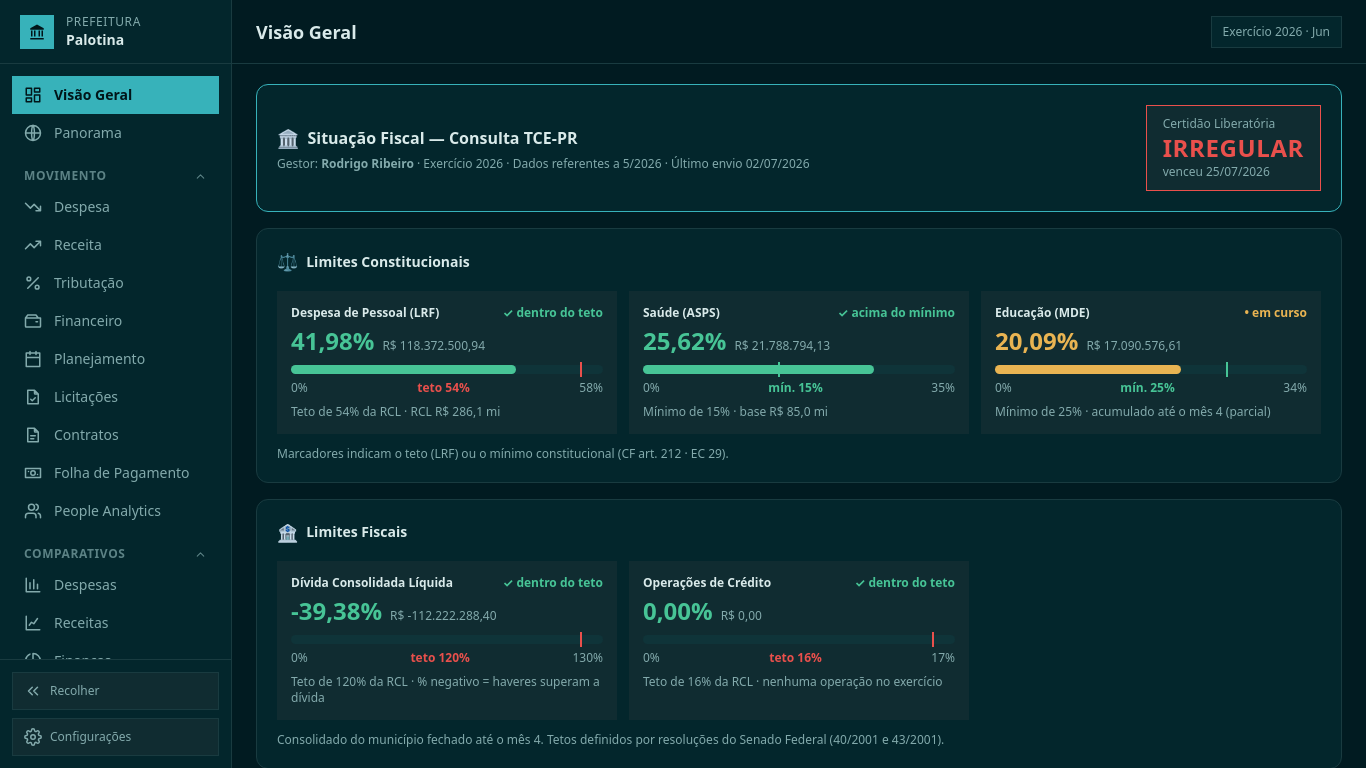
it: menu Configurações › abre com as seções Display, Aparência, Módulos e Extras
Click the button "Configurações" at coordinates (116, 737), box [12, 718, 219, 756]
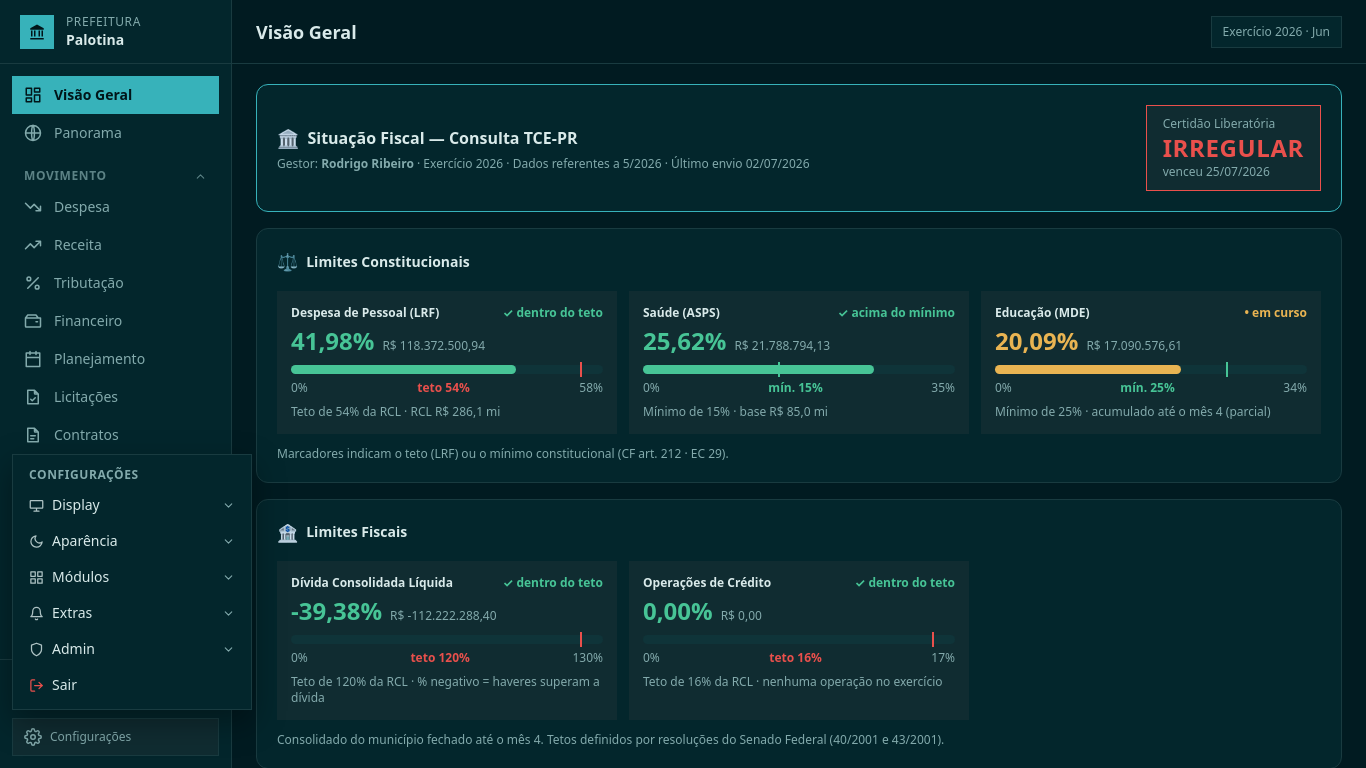
Check: the text "Display" is shown, box [52, 495, 100, 514]
Check: the text "Aparência" is shown, box [52, 531, 118, 550]
Check: the text "Módulos" is shown, box [52, 567, 109, 586]
